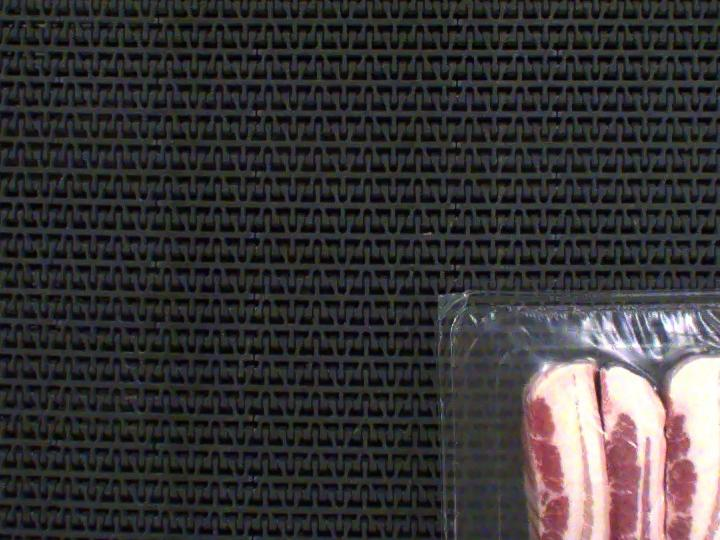unsealed: (440, 280, 720, 540)
